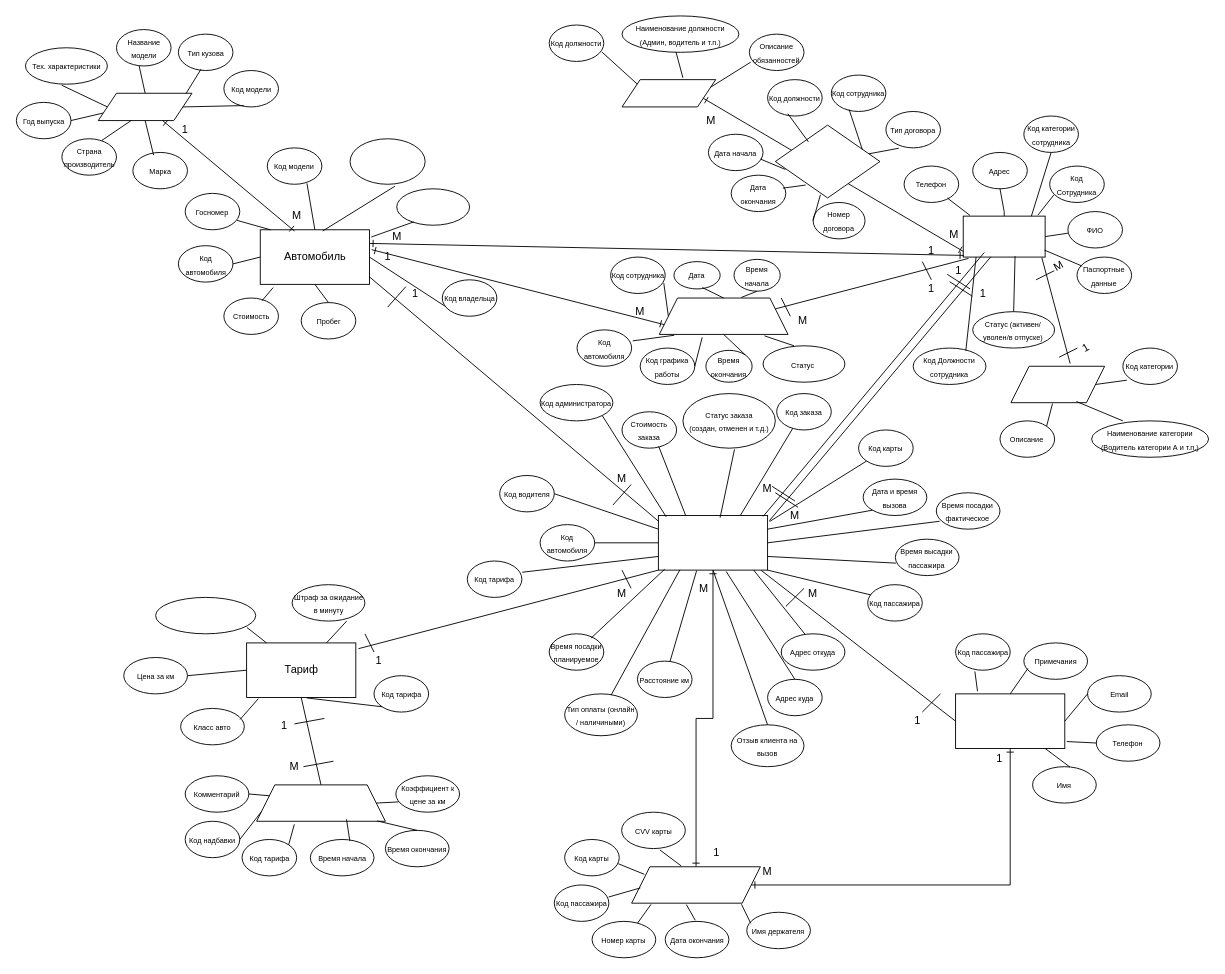
This 1225x974 diagram has some shape labels left out. The centre of each missing label's shape, as x and y in pixels:
"График работы сотрудника" goes at [723,315].
"Дата последнего ТО" goes at [433,206].
"Должность" goes at [668,93].
"Должность сотрудника" goes at [827,161].
"Заказ" goes at [712,542].
"Категория сотрудника" goes at [1057,384].
"Модель" goes at [144,106].
"Надбавка к тарифу" goes at [320,802].
"Наименование тарифа (Эконом, бизнес и т.д.)" goes at [205,615].
"Пассажир" goes at [1010,720].
"Платежная карта" goes at [695,884].
"Сотрудник" goes at [1003,236].
"Статус автомобиля" goes at [387,161].
